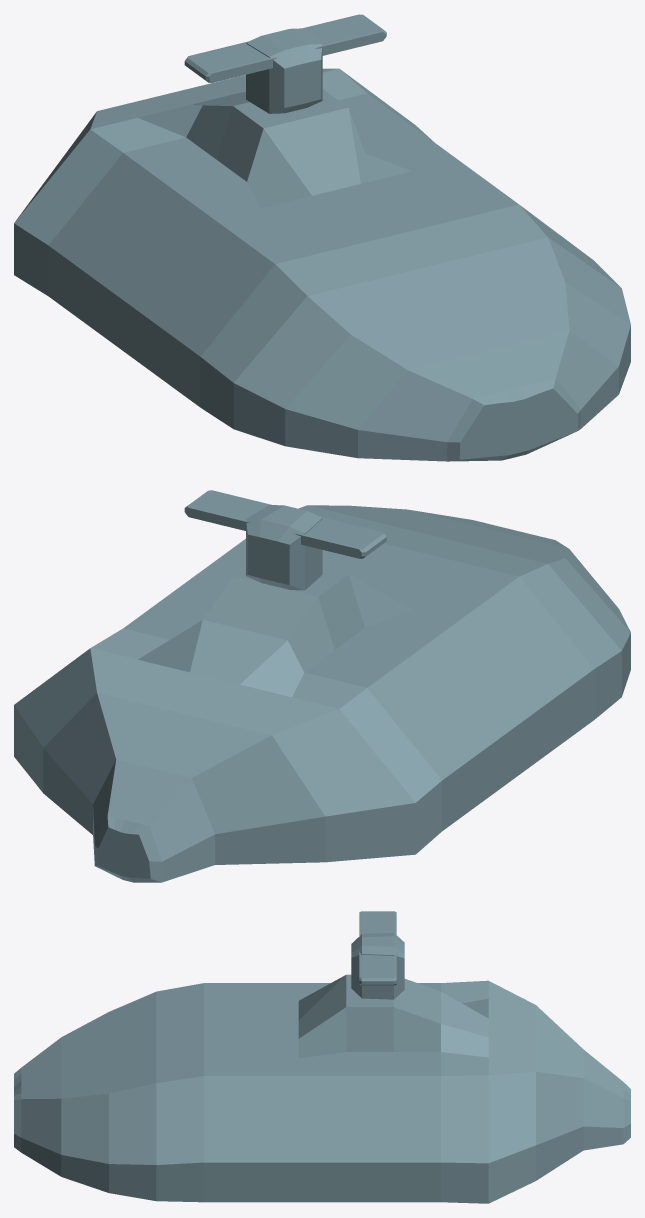
Rendered from ballard_heavy_a.glb.
3 renders of one model, top to bottom at view 1: azimuth 30°, elevation 25°; view 2: azimuth 150°, elevation 25°; view 3: azimuth 270°, elevation 25°, orthographic. The views are drawn at different scales.
Parts seen in each view (by area): view 1: ballard_heavy_a; view 2: ballard_heavy_a; view 3: ballard_heavy_a.
Boxes of the visible parts, <box> form: ballard_heavy_a: <box>14,14,630,461</box>; ballard_heavy_a: <box>14,490,630,882</box>; ballard_heavy_a: <box>14,911,630,1203</box>.
Bounding box in the file's own units: 4.4 × 2.62 × 7.5.
